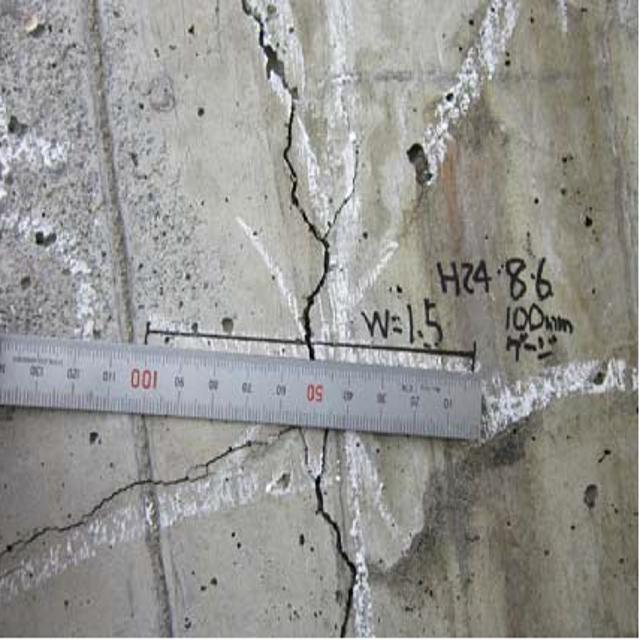crack: (15, 425, 367, 640), (234, 6, 354, 357)
